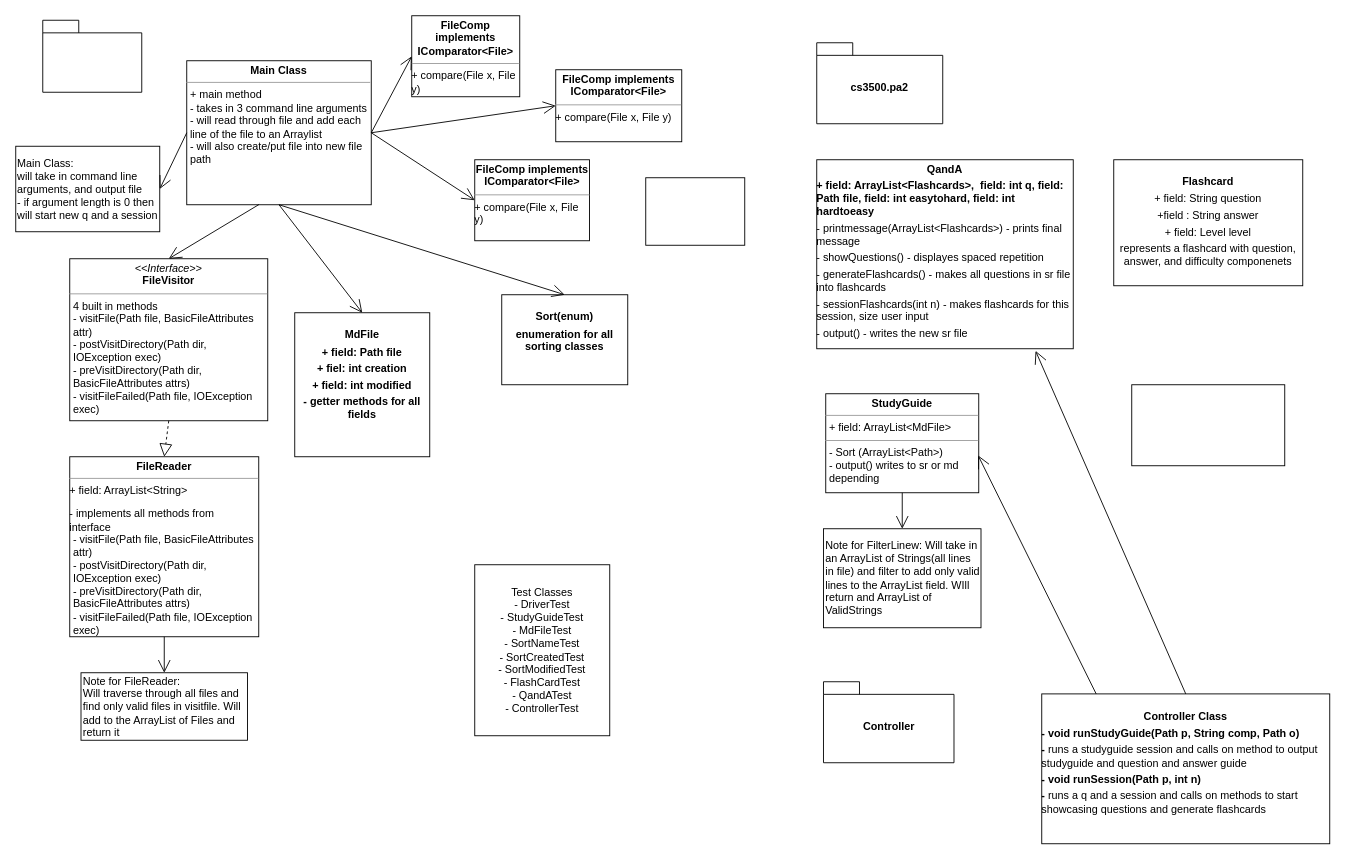
Some shapes in this 1346 by 860 pixel diagram are drawn without their labels. The shapes that lost their labels are listed below. From the top down, each one's box as (x1, y1, x2, y2) in pixels, then its label:
(42, 19, 142, 92): cs3500.pa02
(645, 177, 745, 245): Comparators for using Collections.sort on ArrayList of Files
(1131, 384, 1285, 466): Level(enum) - enumeration for difficulty level
